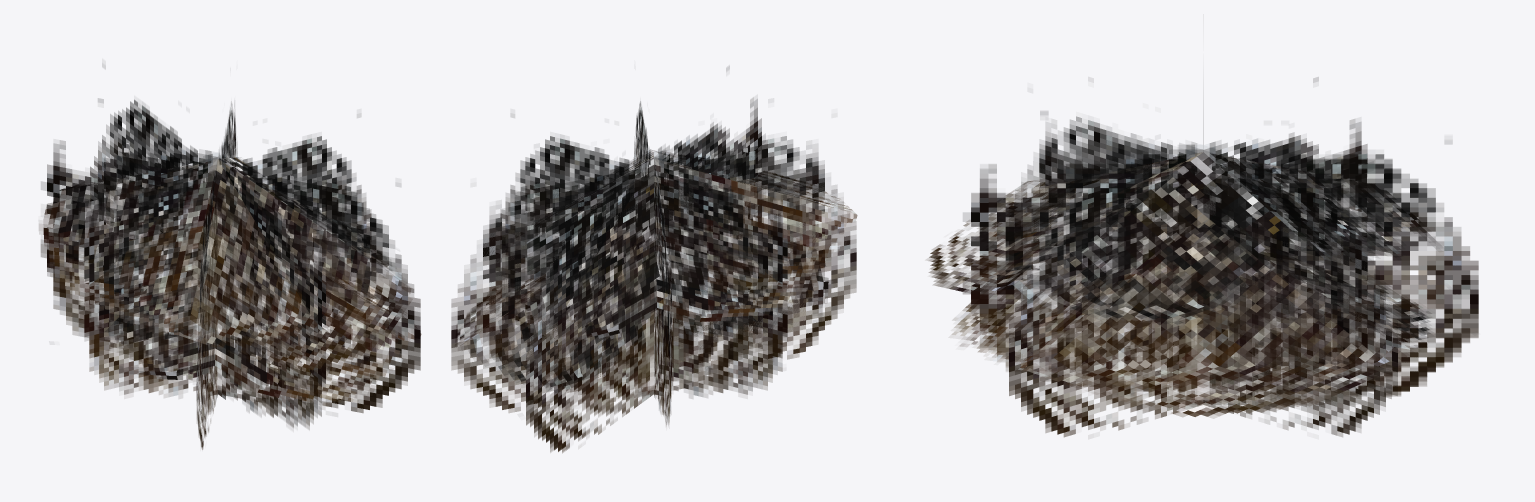
File: Environment - Debris and Ruins - Rubble Mound - Debris - PMTmbWeed03_d.glb
3 renders of one model, left to right at view 1: azimuth 30°, elevation 25°; view 2: azimuth 150°, elevation 25°; view 3: azimuth 270°, elevation 25°, orthographic. The views are drawn at different scales.
Parts seen in each view (by area): view 1: PMTMBWEED03_D; view 2: PMTMBWEED03_D; view 3: PMTMBWEED03_D.
Part boxes in pixels (<box>): PMTMBWEED03_D: <box>39,98,421,449</box>; PMTMBWEED03_D: <box>451,66,857,452</box>; PMTMBWEED03_D: <box>927,77,1478,437</box>.
Bounding box in the file's own units: 9.61 × 7.2 × 13.46.
1 material, 1 textured.
